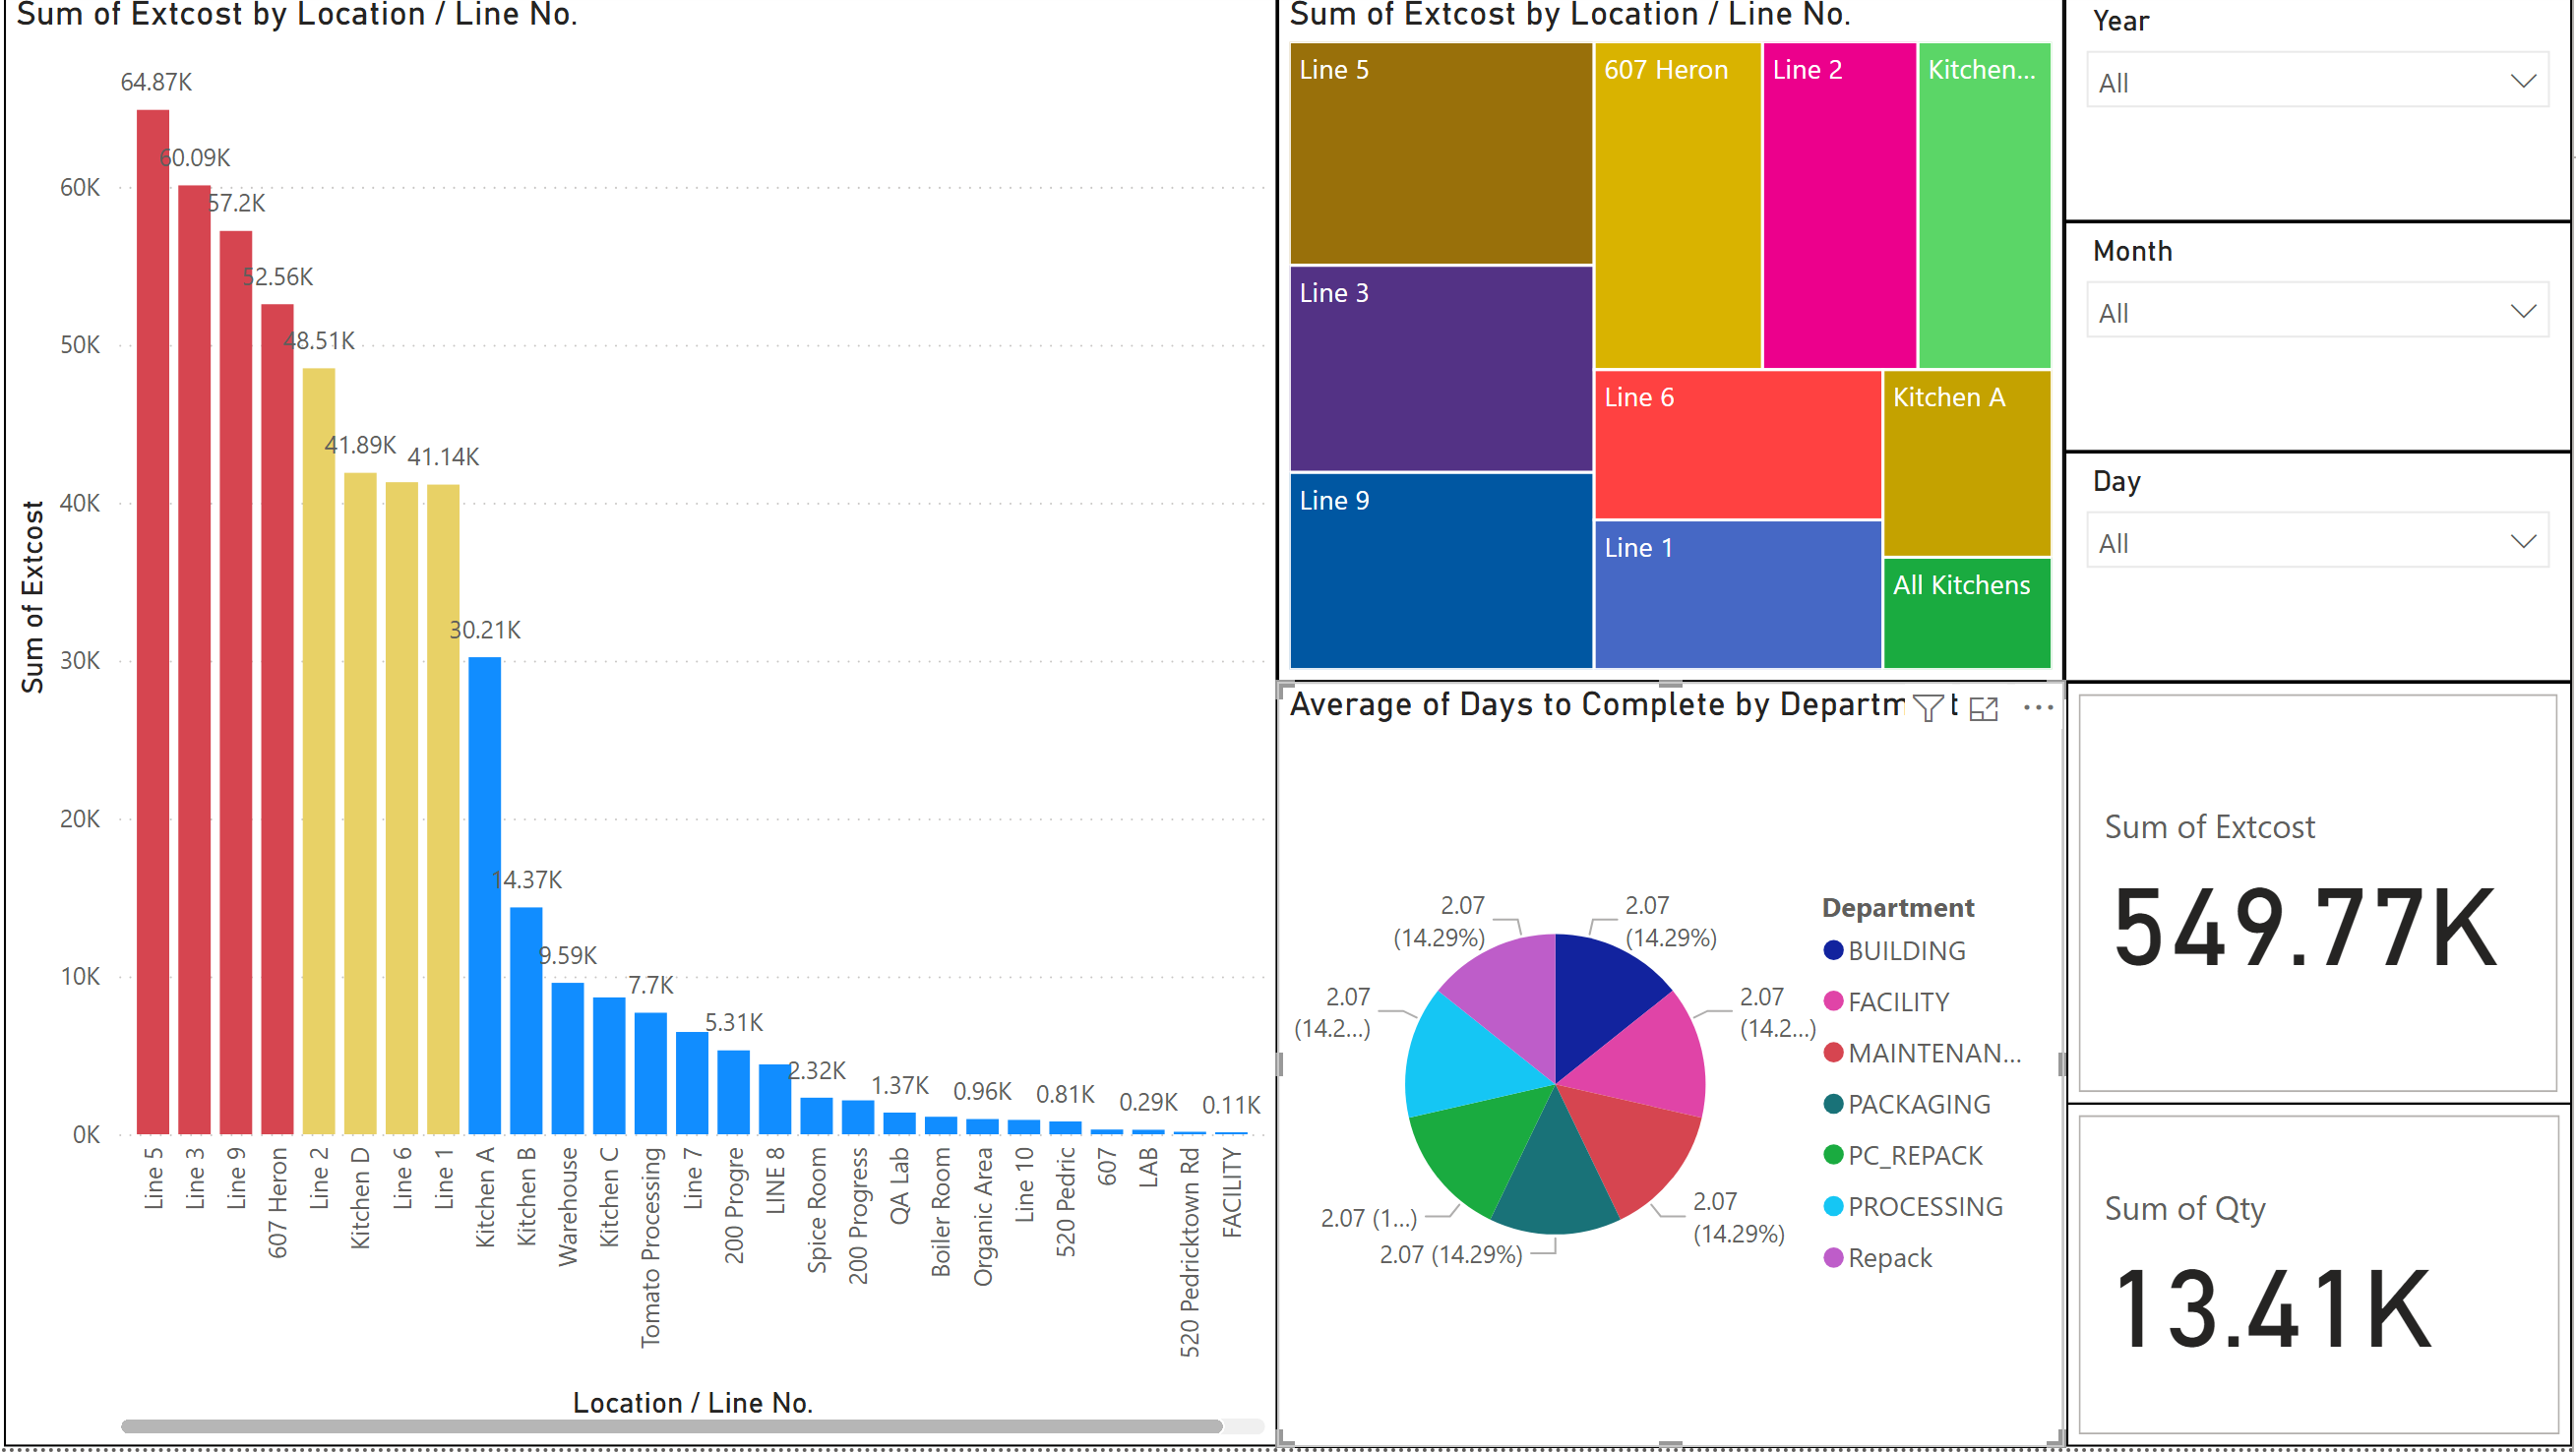

What the dashboard file says about the page in this screenshot:
{"tool":"powerbi","page":{"name":"Page 1","canvas":[1280,720],"ordinal":0},"visuals":[{"type":"columnChart","fields":{"Category":["DimLine.Location / Line No."],"Y":["Sum(factCMMS.Extcost)"]},"box":[10.7,0,629.3,719.6],"z":0},{"type":"slicer","fields":{"Values":["factCMMS.Completed Date.Variation.Date Hierarchy.Year"]},"box":[1029.1,0,250.9,113.8],"z":1},{"type":"slicer","fields":{"Values":["factCMMS.Completed Date.Variation.Date Hierarchy.Month"]},"box":[1029.1,113.8,250.9,113.8],"z":2},{"type":"slicer","fields":{"Values":["factCMMS.Completed Date.Variation.Date Hierarchy.Day"]},"box":[1029.1,227.6,250.9,113.8],"z":3},{"type":"cardVisual","fields":{"Data":["Sum(factCMMS.Extcost)"]},"box":[1030,341.4,250,209.1],"z":4},{"type":"treemap","fields":{"Group":["DimLine.Location / Line No."],"Values":["Sum(factCMMS.Extcost)"]},"box":[640,0,389.1,341.4],"z":5},{"type":"pieChart","fields":{"Y":["Avg(factCMMS.Days to Complete)"],"Category":["DimDepartment.Department"]},"box":[640,341,389,379],"z":6},{"type":"cardVisual","fields":{"Data":["Sum(factCMMS.Qty)"]},"box":[1030,550,250,170],"z":7}]}

Visuals, with their boxes in screenshot pixels (x1, y1, x2, y2), scaled from the page's 1280x720 canvas onto the 2576x1452 screenshot:
columnChart - DimLine.Location / Line No. x Sum(factCMMS.Extcost): <box>22,0,1288,1451</box>
slicer - factCMMS.Completed Date.Variation.Date Hierarchy.Year: <box>2071,0,2575,229</box>
slicer - factCMMS.Completed Date.Variation.Date Hierarchy.Month: <box>2071,229,2575,459</box>
slicer - factCMMS.Completed Date.Variation.Date Hierarchy.Day: <box>2071,459,2575,689</box>
cardVisual - Sum(factCMMS.Extcost): <box>2073,689,2575,1111</box>
treemap - DimLine.Location / Line No. x Sum(factCMMS.Extcost): <box>1288,0,2071,689</box>
pieChart - Avg(factCMMS.Days to Complete) x DimDepartment.Department: <box>1288,688,2071,1451</box>
cardVisual - Sum(factCMMS.Qty): <box>2073,1110,2575,1451</box>
